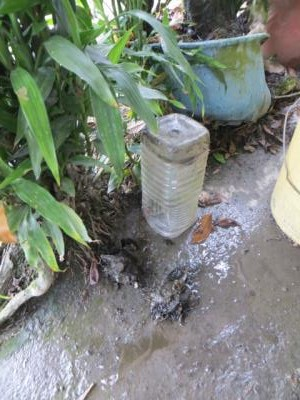bottle: (135, 111, 211, 241)
